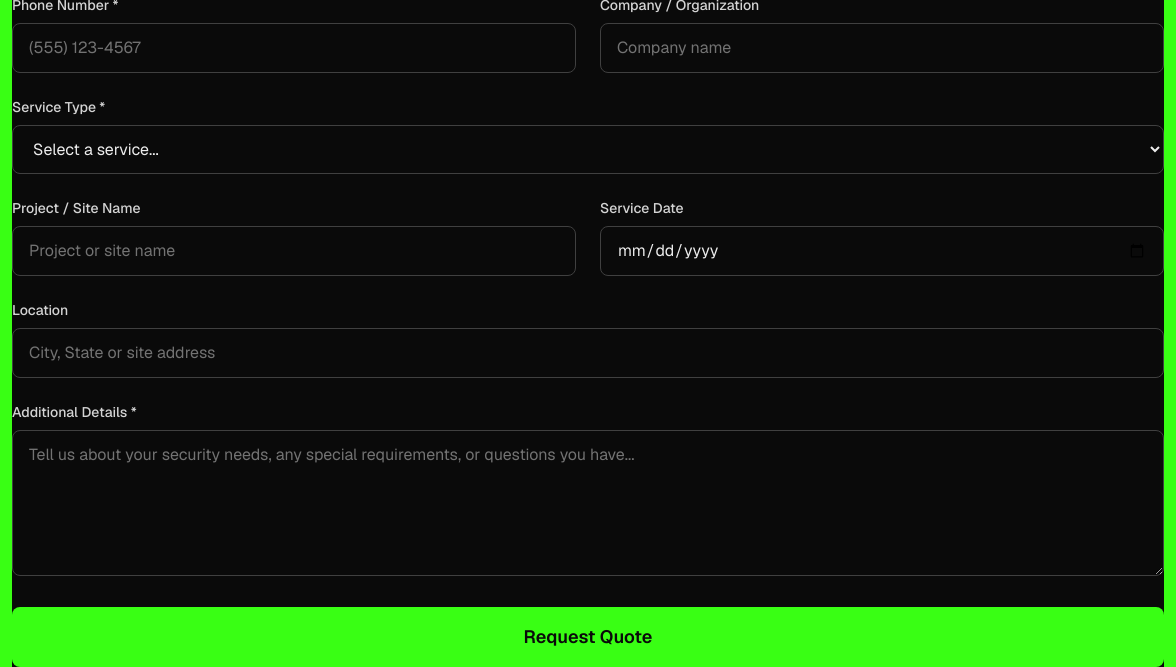
Test: QuoteForm › shows validation errors for empty required fields
The image size is (1176, 667).
(page scrolled)
Click the button "Request Quote" at (588, 637), box [12,607,1164,666]
(page scrolled)
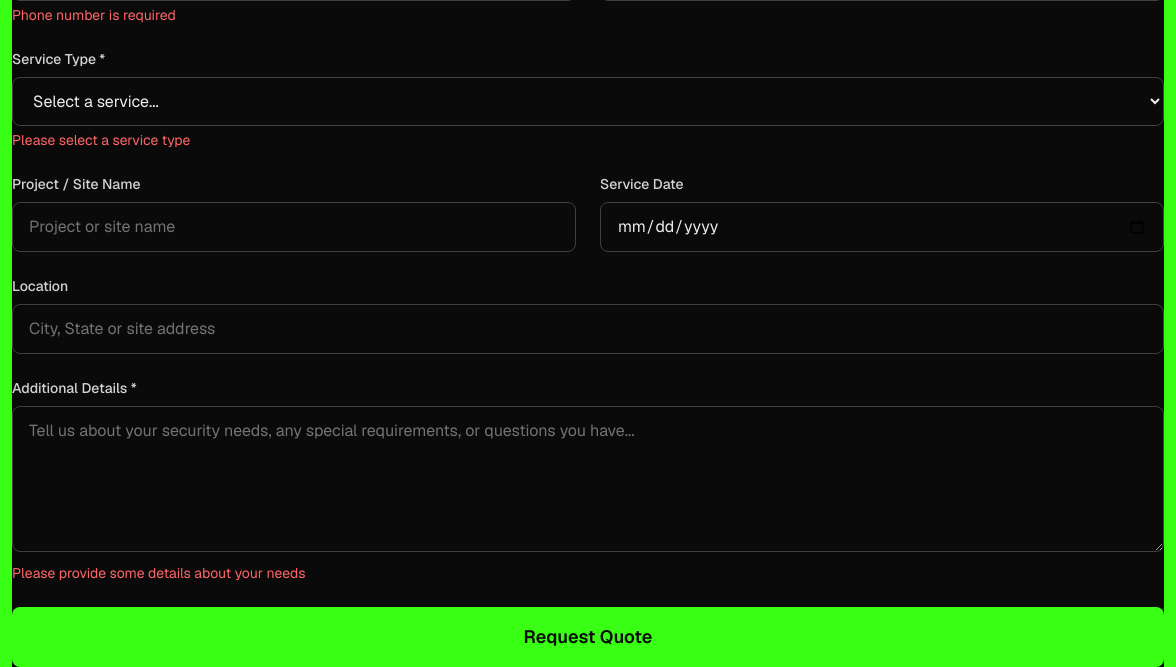
Result: the text "Phone number is required" is shown at [12,6,176,24]
Result: the text "Please select a service type" is shown at [12,131,190,149]
Result: the text "Please provide some details about your needs" is shown at [12,564,305,582]
